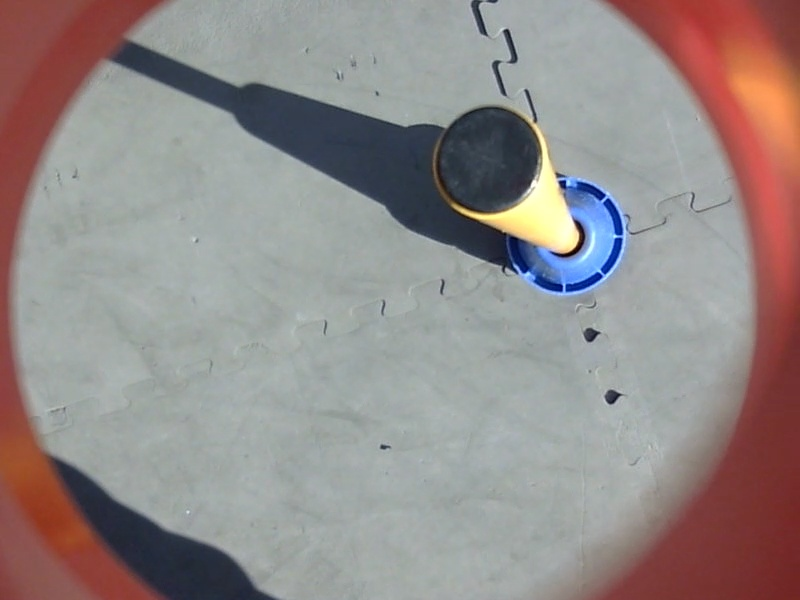tip: (427, 103, 551, 222)
